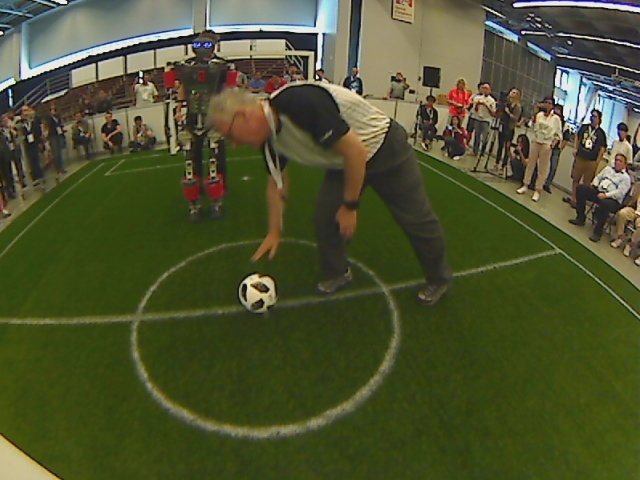ball: (233, 273, 279, 316)
goalpost: (158, 138, 188, 162)
robot: (176, 189, 236, 232)
